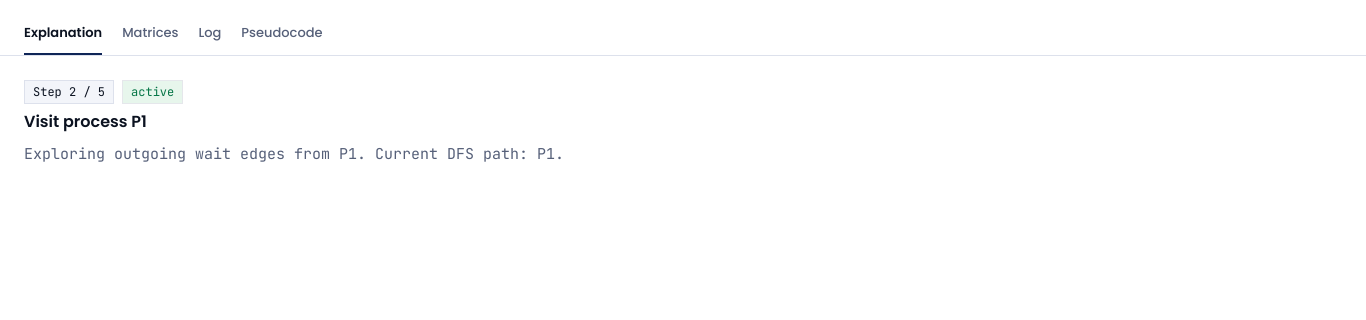
Test: Trace playback › steps the explanation and highlights pseudocode for the current step
Click the tab "Pseudocode" at (282, 34), box [241,12,322,55]
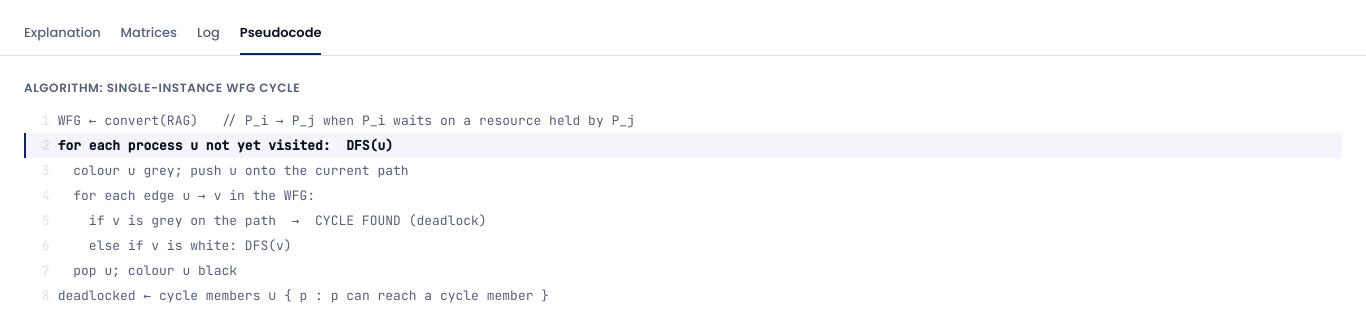
Expected: the element showing "2for each process u not yet visited: DFS(u)" is shown, [24,133,1342,158]
